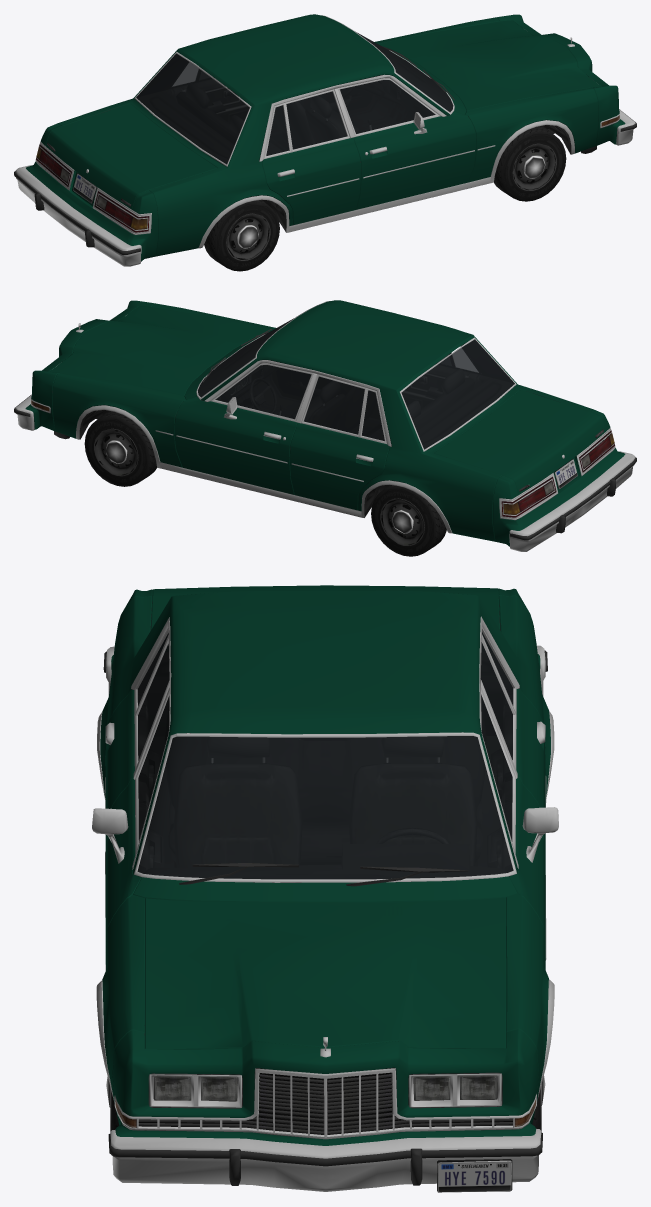
The model's file is sedan.glb.
The picture shows the model from 3 angles, top to bottom: view 1: azimuth 30°, elevation 25°; view 2: azimuth 150°, elevation 25°; view 3: azimuth 270°, elevation 25°; orthographic projection. The views are drawn at different scales.
Parts seen in each view (by area): view 1: Negotiator80_Hood_Negotiator80_Bodymat_0, Negotiator80_Glass_back_UCB_Lights_and_Glass_Transperent_0, Negotiator80_suspension_UCB_BOTTOM_0, Negotiator80_Interior_UCB_Interiors_2_0, Negotiator80_WheelStock_FL_RB1c_Tire_1k_0, Negotiator80_Headlights_UCB_Lights_and_Glass_0, Negotiator80_Numberplate_rear_Numberplates_Misk_U_0; view 2: Negotiator80_Hood_Negotiator80_Bodymat_0, Negotiator80_Glass_back_UCB_Lights_and_Glass_Transperent_0, Negotiator80_suspension_UCB_BOTTOM_0, Negotiator80_Interior_UCB_Interiors_2_0, Negotiator80_WheelStock_FL_RB1c_Tire_1k_0, Negotiator80_Headlights_UCB_Lights_and_Glass_0, Negotiator80_Numberplate_rear_Numberplates_Misk_U_0; view 3: Negotiator80_Hood_Negotiator80_Bodymat_0, Negotiator80_Glass_back_UCB_Lights_and_Glass_Transperent_0, Negotiator80_Interior_UCB_Interiors_2_0, Negotiator80_suspension_UCB_BOTTOM_0, Negotiator80_Headlights_UCB_Lights_and_Glass_0, Negotiator80_Numberplate_rear_Numberplates_Misk_U_0.
Part boxes in pixels (x1,y1,x2,y2): Negotiator80_Hood_Negotiator80_Bodymat_0: (26,14,625,261); Negotiator80_Glass_back_UCB_Lights_and_Glass_Transperent_0: (36,32,619,229); Negotiator80_suspension_UCB_BOTTOM_0: (14,15,636,266); Negotiator80_Interior_UCB_Interiors_2_0: (137,45,452,203); Negotiator80_WheelStock_FL_RB1c_Tire_1k_0: (204,125,566,271); Negotiator80_Headlights_UCB_Lights_and_Glass_0: (37,77,616,229); Negotiator80_Numberplate_rear_Numberplates_Misk_U_0: (73,173,96,203); Negotiator80_Hood_Negotiator80_Bodymat_0: (25,300,625,546); Negotiator80_Glass_back_UCB_Lights_and_Glass_Transperent_0: (31,318,614,514); Negotiator80_suspension_UCB_BOTTOM_0: (14,301,636,551); Negotiator80_Interior_UCB_Interiors_2_0: (197,331,514,486); Negotiator80_WheelStock_FL_RB1c_Tire_1k_0: (84,411,446,556); Negotiator80_Headlights_UCB_Lights_and_Glass_0: (34,362,613,514); Negotiator80_Numberplate_rear_Numberplates_Misk_U_0: (555,459,577,489); Negotiator80_Hood_Negotiator80_Bodymat_0: (100,585,550,1145); Negotiator80_Glass_back_UCB_Lights_and_Glass_Transperent_0: (115,632,535,1127); Negotiator80_Interior_UCB_Interiors_2_0: (137,652,513,882); Negotiator80_suspension_UCB_BOTTOM_0: (92,598,558,1191); Negotiator80_Headlights_UCB_Lights_and_Glass_0: (123,1076,528,1125); Negotiator80_Numberplate_rear_Numberplates_Misk_U_0: (437,1160,511,1192).
Bounding box in the file's own units: 5.15 × 1.45 × 1.95.
8 materials, 7 textured.
